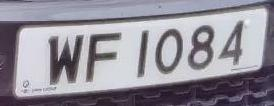0: (151, 20, 186, 82)
1: (129, 22, 157, 86)
4: (216, 17, 250, 71)
8: (184, 18, 218, 76)
F: (84, 26, 125, 89)
W: (43, 27, 85, 90)
